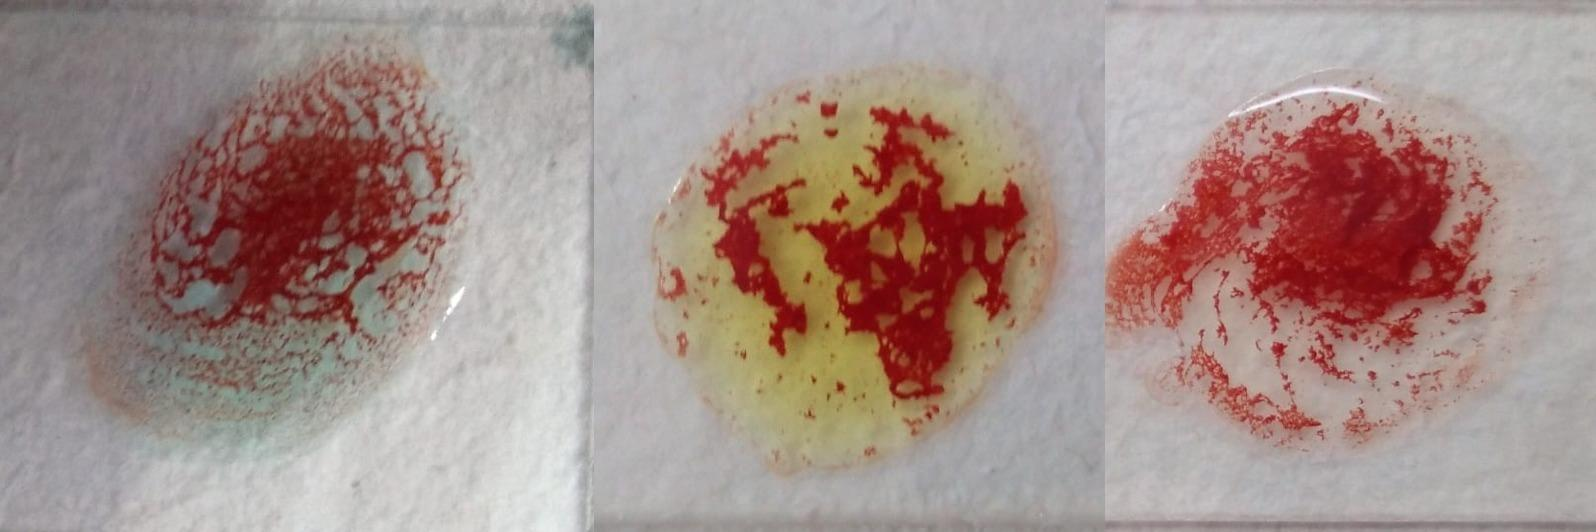A: (82, 46, 459, 442)
B: (670, 59, 1037, 462)
D: (1132, 64, 1512, 463)
